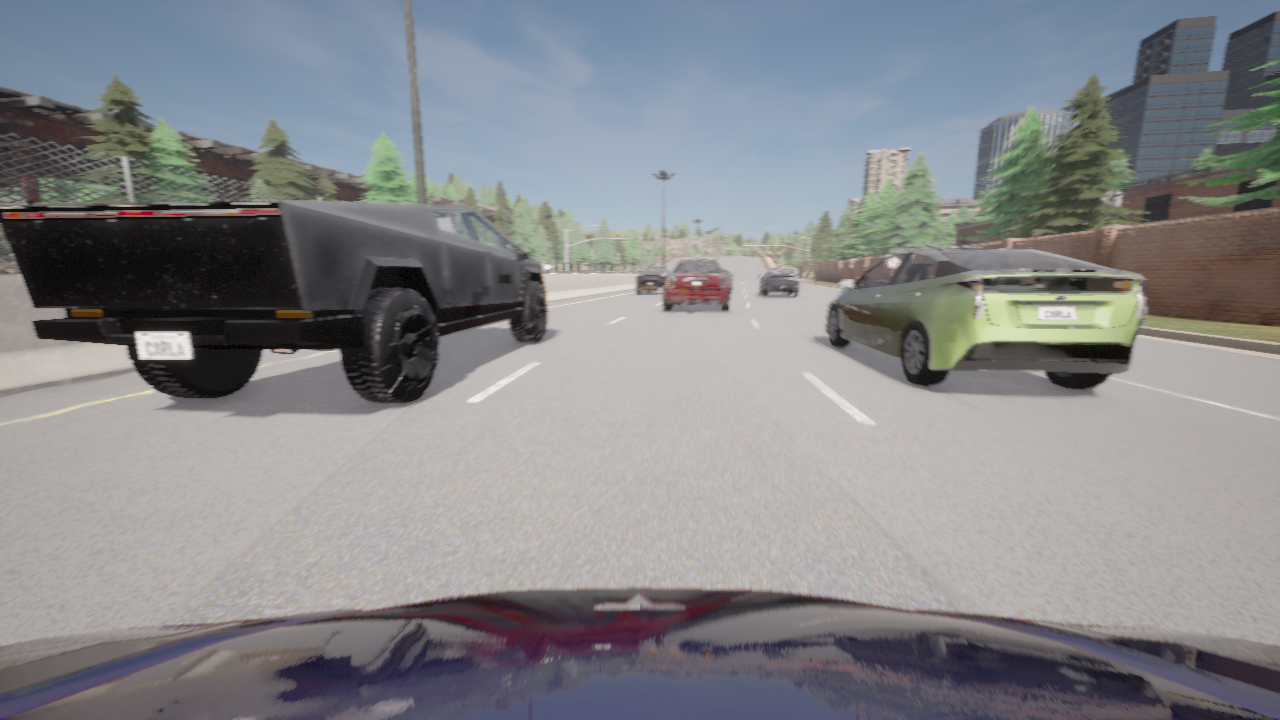cyclist: (0, 588, 1279, 719), (0, 200, 547, 403), (826, 247, 1146, 389), (664, 257, 732, 311), (759, 268, 800, 296), (636, 266, 673, 293), (723, 270, 731, 289)
